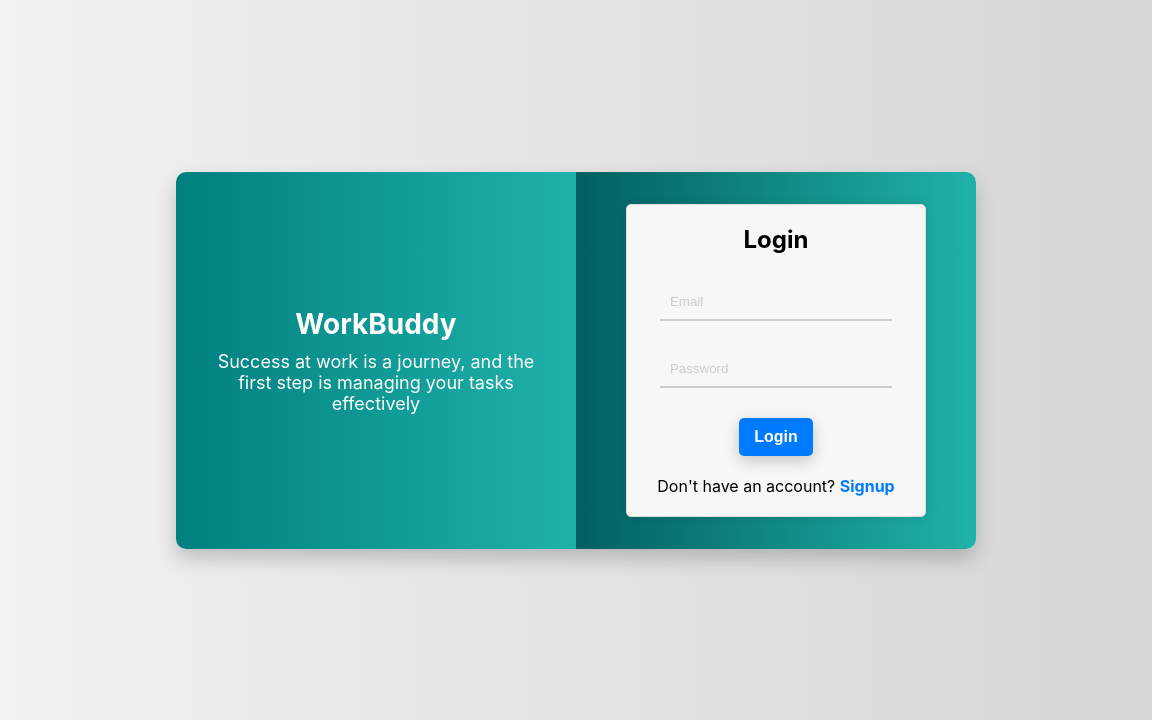
Scenario: Login Component › frontend_login_component_displays_validation_messages_when_login_button_is_clicked_with_empty_fields
Click the button "Login" at (776, 436), box [739, 418, 813, 456]
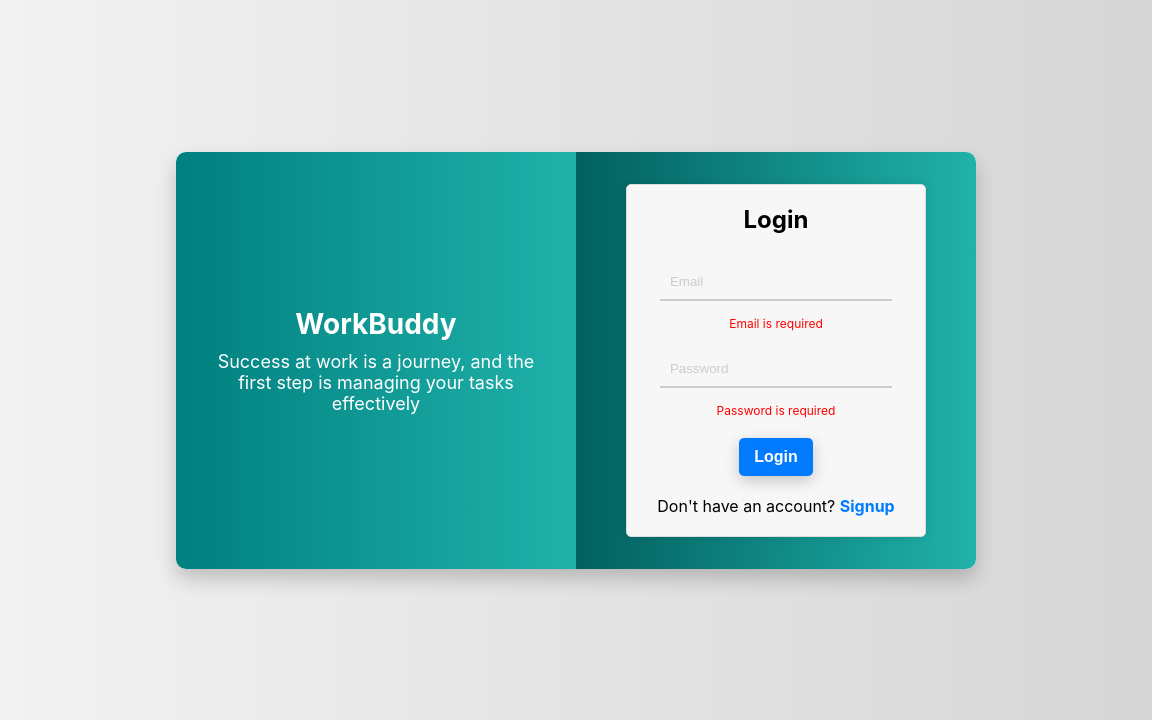
Check: the text "Email is required" is shown, box [729, 316, 823, 330]
Check: the text "Password is required" is shown, box [717, 402, 836, 418]
